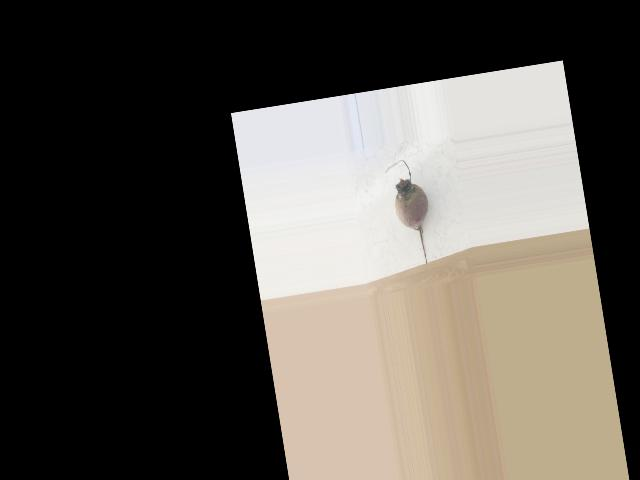beet: (384, 157, 438, 269)
